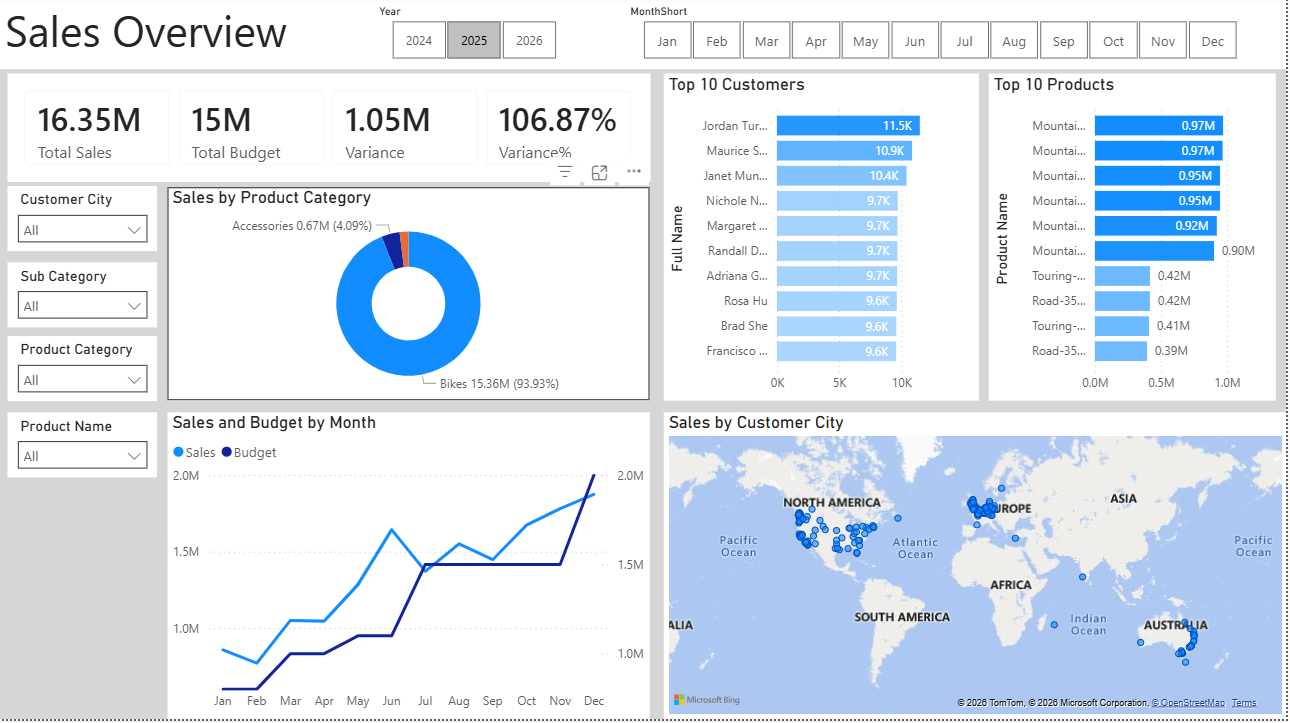

This screenshot's page, from the dashboard's own definition file:
{"tool":"powerbi","page":{"name":"Sales Overview","canvas":[1280,720],"ordinal":0},"visuals":[{"type":"textbox","box":[0,0,1280,72.9],"z":0},{"type":"slicer","fields":{"Values":["DIM_Calender.Year"]},"box":[364.3,4.3,212.9,65.7],"z":1000},{"type":"slicer","fields":{"Values":["DIM_Calender.MonthShort"]},"box":[614.3,4.3,640,65.7],"z":2000},{"type":"cardVisual","fields":{"Data":["FACT_InternetSales.Total Sales","Budget.Total Budget","Budget.Variance","Budget.Variance%"]},"box":[7.3,77.3,640,108.2],"z":3000},{"type":"donutChart","title":"Sales by Product Category","fields":{"Category":["DIM_Product.Product Category"],"Y":["Sum(FACT_InternetSales.SalesAmount)"]},"box":[167.1,190,480,212.9],"z":4000},{"type":"clusteredBarChart","title":"Top 10 Customers","fields":{"Category":["DIM_Customers.Full Name"],"Y":["Sum(FACT_InternetSales.SalesAmount)"]},"box":[660.5,77.1,313.5,325.9],"z":5000},{"type":"clusteredBarChart","title":"Top 10 Products","fields":{"Category":["DIM_Product.Product Name"],"Y":["Sum(FACT_InternetSales.SalesAmount)"]},"box":[984.3,77.1,285.7,325.7],"z":6000},{"type":"map","fields":{"Category":["DIM_Customers.Customer City"]},"box":[660,414.4,620,305.6],"z":7000},{"type":"lineChart","title":"Sales and Budget by Month","fields":{"Category":["DIM_Calender.MonthShort"],"Y":["Sum(FACT_InternetSales.SalesAmount)"],"Y2":["Sum(Budget.Budget)"]},"box":[167.1,414.3,480,305.7],"z":8000},{"type":"slicer","fields":{"Values":["DIM_Customers.Customer City"]},"box":[7.8,188.9,148.9,64.4],"z":8001},{"type":"slicer","fields":{"Values":["DIM_Product.Sub Category"]},"box":[7.8,264.4,148.9,64.4],"z":8002},{"type":"slicer","fields":{"Values":["DIM_Product.Product Category"]},"box":[7.8,338.9,148.9,64.4],"z":8003},{"type":"slicer","fields":{"Values":["DIM_Product.Product Name"]},"box":[7.8,414.4,148.9,64.4],"z":8004}]}

Visuals, with their boxes in screenshot pixels (x1, y1, x2, y2), scaled from the page's 1280x720 canvas onto the 1290x723 screenshot:
textbox: 0, 0, 1289, 73
slicer - DIM_Calender.Year: 367, 4, 582, 70
slicer - DIM_Calender.MonthShort: 619, 4, 1264, 70
cardVisual - FACT_InternetSales.Total Sales x Budget.Total Budget: 7, 78, 652, 186
"Sales by Product Category" donutChart: 168, 191, 652, 405
"Top 10 Customers" clusteredBarChart: 666, 77, 982, 405
"Top 10 Products" clusteredBarChart: 992, 77, 1280, 404
map - DIM_Customers.Customer City: 665, 416, 1289, 722
"Sales and Budget by Month" lineChart: 168, 416, 652, 722
slicer - DIM_Customers.Customer City: 8, 190, 158, 254
slicer - DIM_Product.Sub Category: 8, 266, 158, 330
slicer - DIM_Product.Product Category: 8, 340, 158, 405
slicer - DIM_Product.Product Name: 8, 416, 158, 481
